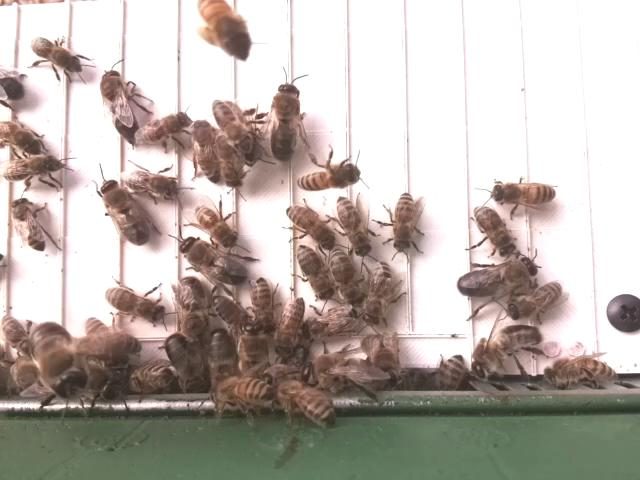Drone: (27, 320, 91, 401), (470, 323, 545, 379), (456, 256, 541, 302), (176, 234, 251, 286), (99, 176, 153, 246), (98, 67, 141, 143), (173, 274, 214, 351), (269, 80, 307, 162), (162, 330, 207, 395)
Worker: (328, 246, 368, 309), (300, 302, 364, 341), (189, 117, 224, 187), (472, 203, 518, 256), (335, 196, 374, 257), (211, 98, 254, 153), (285, 200, 336, 246), (101, 285, 170, 319), (362, 260, 396, 327), (294, 240, 330, 303), (507, 281, 565, 319), (134, 110, 192, 148), (487, 178, 558, 208), (389, 187, 420, 255), (295, 161, 361, 192), (11, 196, 46, 254), (206, 376, 278, 404), (28, 36, 81, 74), (276, 294, 306, 361), (121, 167, 182, 199), (0, 154, 64, 184), (208, 292, 252, 335), (544, 355, 619, 380), (196, 204, 240, 246), (251, 275, 275, 335)
